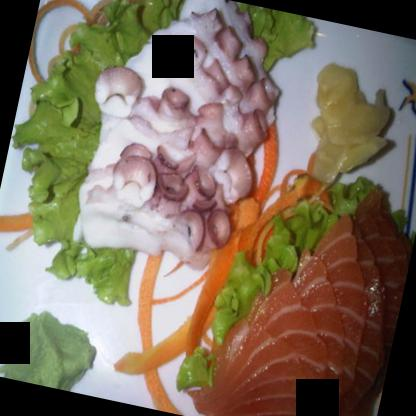salmon: (191, 159, 415, 415)
